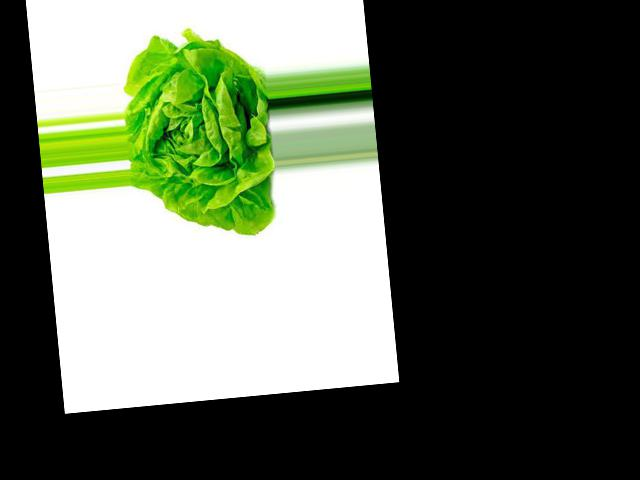lettuce: (164, 49, 251, 172)
